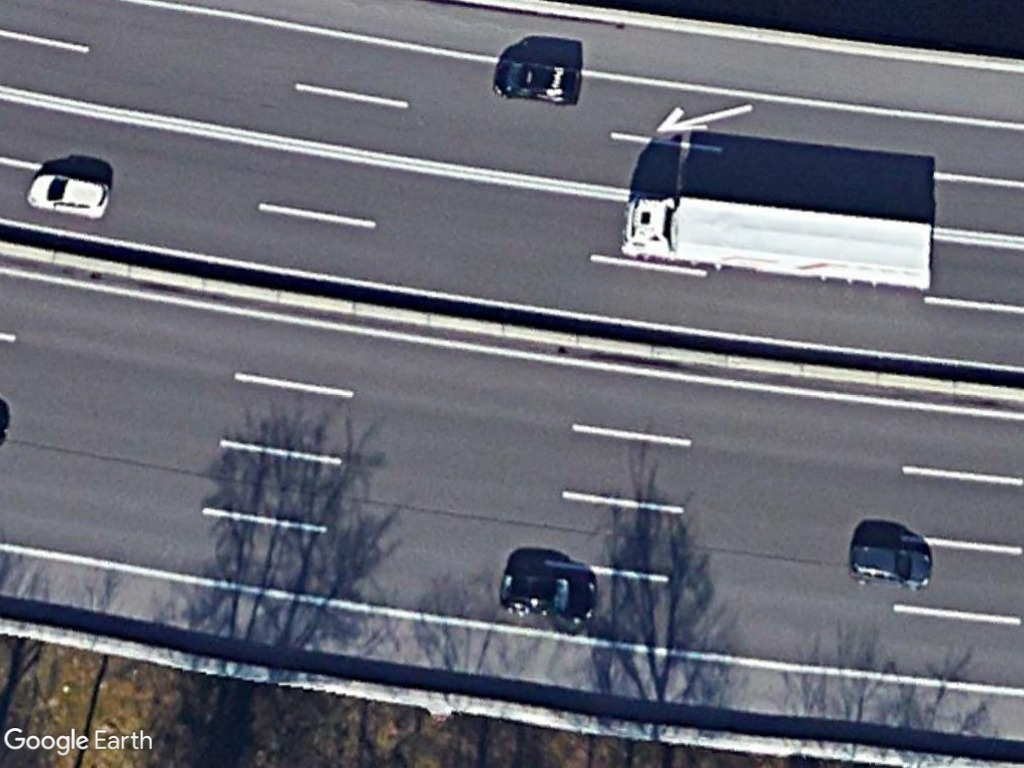car: (494, 568, 600, 625), (847, 543, 936, 591), (23, 173, 113, 220)
longvehicle: (619, 194, 939, 294)
